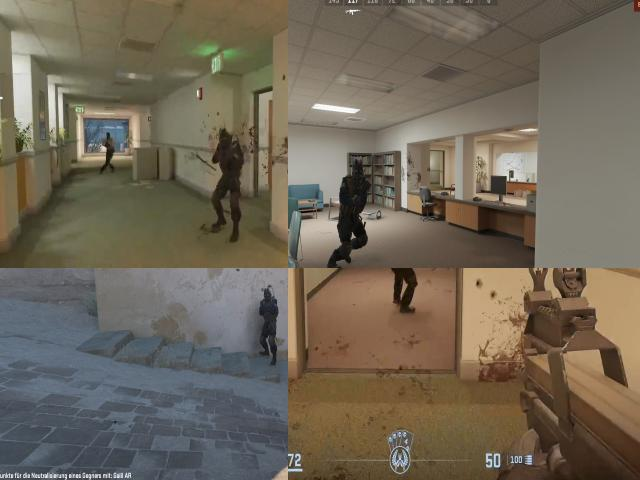CT: (340, 160, 369, 258), (213, 116, 243, 198), (260, 286, 277, 351)
CT-Head: (213, 122, 237, 150), (352, 160, 364, 177), (263, 289, 271, 301)
T: (104, 130, 115, 162)
T-Head: (102, 130, 115, 141)
